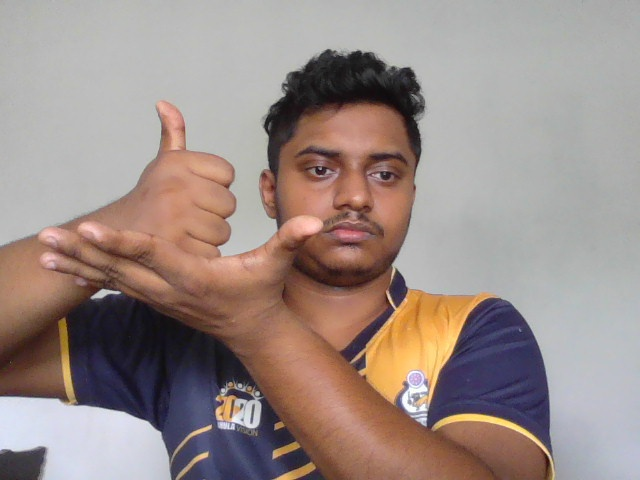Help: (39, 98, 323, 333)
